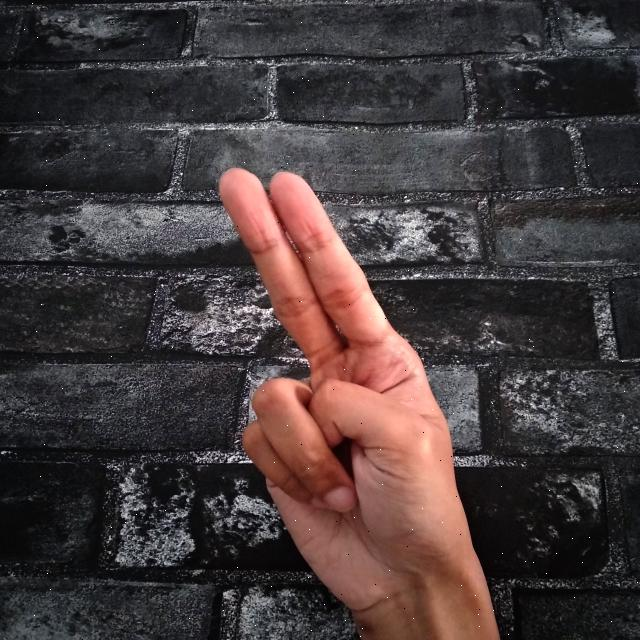U: (212, 160, 499, 640)
